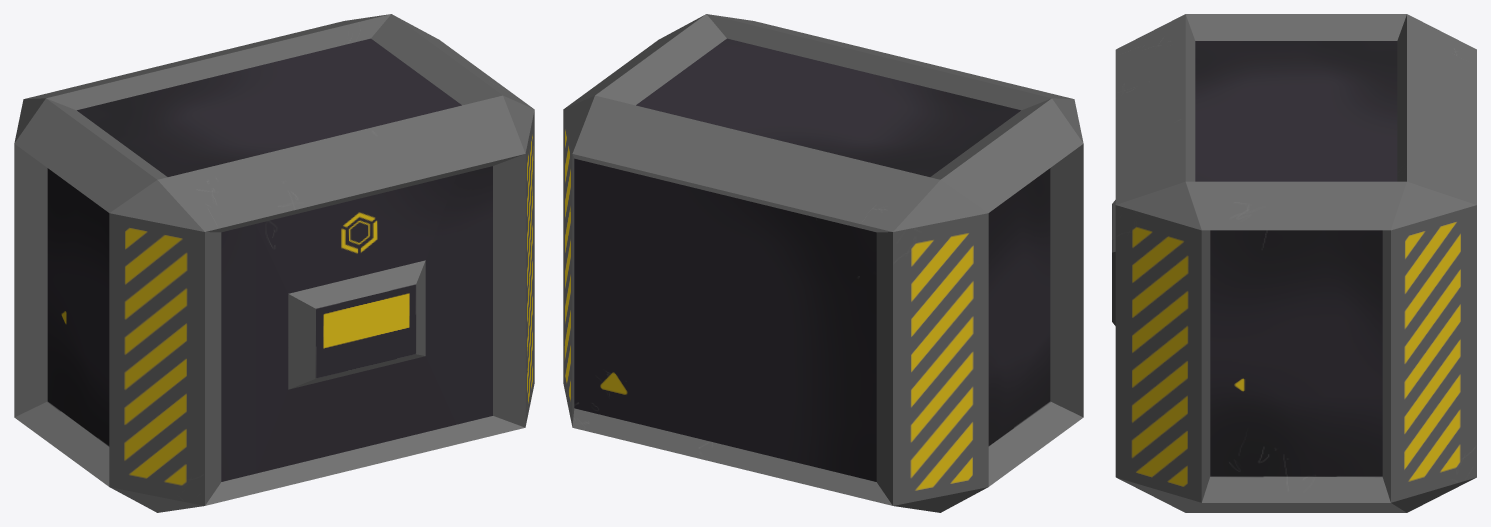
The model's file is Crate_small.fbx.
3 renders of one model, left to right at view 1: azimuth 30°, elevation 25°; view 2: azimuth 150°, elevation 25°; view 3: azimuth 270°, elevation 25°, orthographic.
Visible parts, largest first — view 1: Crate_Small; view 2: Crate_Small; view 3: Crate_Small.
Boxes of the visible parts, left/top/right/bottom form: Crate_Small: left=14, top=14, right=534, bottom=512; Crate_Small: left=563, top=14, right=1083, bottom=512; Crate_Small: left=1112, top=14, right=1476, bottom=512.
Size of the model in its own units: 85 by 63.63 by 63.5.
